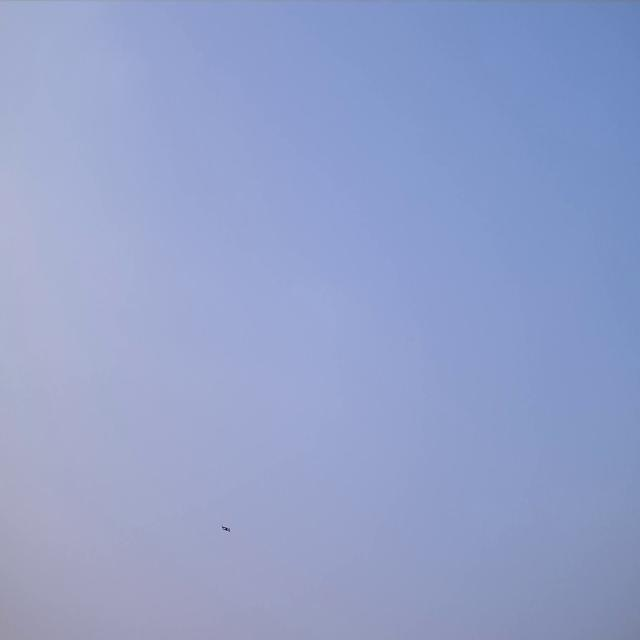UAV: (221, 524, 231, 533)
